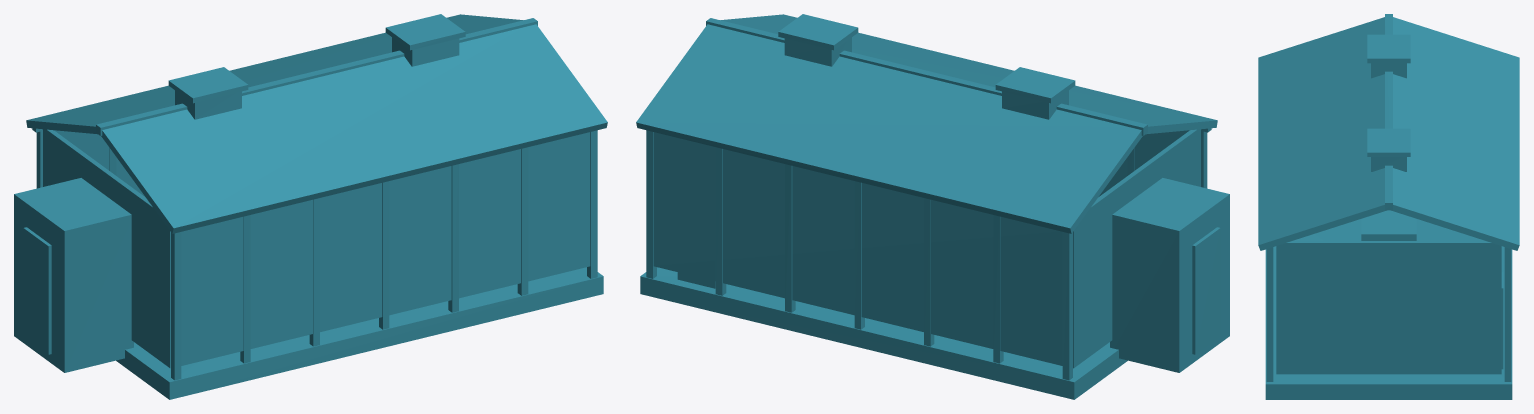
The model's file is research-greenhouse.source.glb.
The picture shows the model from 3 angles, left to right: view 1: azimuth 30°, elevation 25°; view 2: azimuth 150°, elevation 25°; view 3: azimuth 270°, elevation 25°; orthographic projection. The views are drawn at different scales.
Parts seen in each view (by area): view 1: research-greenhouse-pitched-roof-panel-1.04-mesh, research-greenhouse-lower-side-glazing-1.93-mesh, research-greenhouse-cream-service-airlock-shell-mesh, research-greenhouse-continuous-curb-foundation-mesh, research-greenhouse-end-glazing--3.45-mesh, research-greenhouse-pitched-roof-panel--1.04-mesh, research-greenhouse-teal-airlock-door-mesh, research-greenhouse-ridge-beam-mesh, research-greenhouse-roof-vent-cap--1.8-mesh, research-greenhouse-roof-vent-cap-1.8-mesh, research-greenhouse-slim-frame-post-rear--3.45-mesh, research-greenhouse-lower-side-glazing--1.93-mesh (+8 smaller); view 2: research-greenhouse-pitched-roof-panel--1.04-mesh, research-greenhouse-lower-side-glazing--1.93-mesh, research-greenhouse-cream-service-airlock-shell-mesh, research-greenhouse-continuous-curb-foundation-mesh, research-greenhouse-end-glazing--3.45-mesh, research-greenhouse-pitched-roof-panel-1.04-mesh, research-greenhouse-teal-airlock-door-mesh, research-greenhouse-ridge-beam-mesh, research-greenhouse-roof-vent-cap--1.8-mesh, research-greenhouse-roof-vent-cap-1.8-mesh, research-greenhouse-slim-frame-post--3.45-mesh, research-greenhouse-lower-side-glazing-1.93-mesh (+8 smaller); view 3: research-greenhouse-end-glazing-3.45-mesh, research-greenhouse-pitched-roof-panel--1.04-mesh, research-greenhouse-pitched-roof-panel-1.04-mesh, research-greenhouse-continuous-curb-foundation-mesh, research-greenhouse-raised-research-bench--1.75-mesh, research-greenhouse-roof-vent-cap--1.8-mesh, research-greenhouse-roof-vent-cap-1.8-mesh, research-greenhouse-slim-frame-post-3.45-mesh, research-greenhouse-slim-frame-post-rear-3.45-mesh, research-greenhouse-ridge-beam-mesh, research-greenhouse-roof-vent-box--1.8-mesh, research-greenhouse-roof-vent-box-1.8-mesh (+1 smaller).
Part boxes in pixels (x1,y1,x2,y2): research-greenhouse-pitched-roof-panel-1.04-mesh: (101,24,607,233); research-greenhouse-lower-side-glazing-1.93-mesh: (181,132,590,365); research-greenhouse-cream-service-airlock-shell-mesh: (14,178,133,372); research-greenhouse-continuous-curb-foundation-mesh: (116,267,603,399); research-greenhouse-end-glazing--3.45-mesh: (43,129,170,368); research-greenhouse-pitched-roof-panel--1.04-mesh: (26,14,523,134); research-greenhouse-teal-airlock-door-mesh: (23,227,51,354); research-greenhouse-ridge-beam-mesh: (96,18,537,135); research-greenhouse-roof-vent-cap--1.8-mesh: (168,67,248,103); research-greenhouse-roof-vent-cap-1.8-mesh: (385,14,465,50); research-greenhouse-slim-frame-post-rear--3.45-mesh: (171,232,181,380); research-greenhouse-lower-side-glazing--1.93-mesh: (54,130,144,196); research-greenhouse-pitched-roof-panel--1.04-mesh: (636,24,1142,233); research-greenhouse-lower-side-glazing--1.93-mesh: (653,132,1062,365); research-greenhouse-cream-service-airlock-shell-mesh: (1110,178,1229,372); research-greenhouse-continuous-curb-foundation-mesh: (640,267,1127,399); research-greenhouse-end-glazing--3.45-mesh: (1073,129,1200,368); research-greenhouse-pitched-roof-panel-1.04-mesh: (720,14,1217,134); research-greenhouse-teal-airlock-door-mesh: (1192,227,1220,354); research-greenhouse-ridge-beam-mesh: (706,18,1147,135); research-greenhouse-roof-vent-cap--1.8-mesh: (995,67,1075,103); research-greenhouse-roof-vent-cap-1.8-mesh: (778,14,858,50); research-greenhouse-slim-frame-post--3.45-mesh: (1062,232,1072,380); research-greenhouse-lower-side-glazing-1.93-mesh: (1099,130,1189,196); research-greenhouse-end-glazing-3.45-mesh: (1276,241,1501,374); research-greenhouse-pitched-roof-panel--1.04-mesh: (1391,17,1519,250); research-greenhouse-pitched-roof-panel-1.04-mesh: (1258,17,1386,250); research-greenhouse-continuous-curb-foundation-mesh: (1265,219,1512,399); research-greenhouse-raised-research-bench--1.75-mesh: (1361,210,1416,240); research-greenhouse-roof-vent-cap--1.8-mesh: (1367,34,1410,63); research-greenhouse-roof-vent-cap-1.8-mesh: (1367,128,1410,156); research-greenhouse-slim-frame-post-3.45-mesh: (1504,250,1511,381); research-greenhouse-slim-frame-post-rear-3.45-mesh: (1266,250,1273,381); research-greenhouse-ridge-beam-mesh: (1385,14,1392,210); research-greenhouse-roof-vent-box--1.8-mesh: (1371,63,1406,78); research-greenhouse-roof-vent-box-1.8-mesh: (1371,157,1406,171).
Size of the model in its own units: 8.28 by 3.8 by 4.24.
